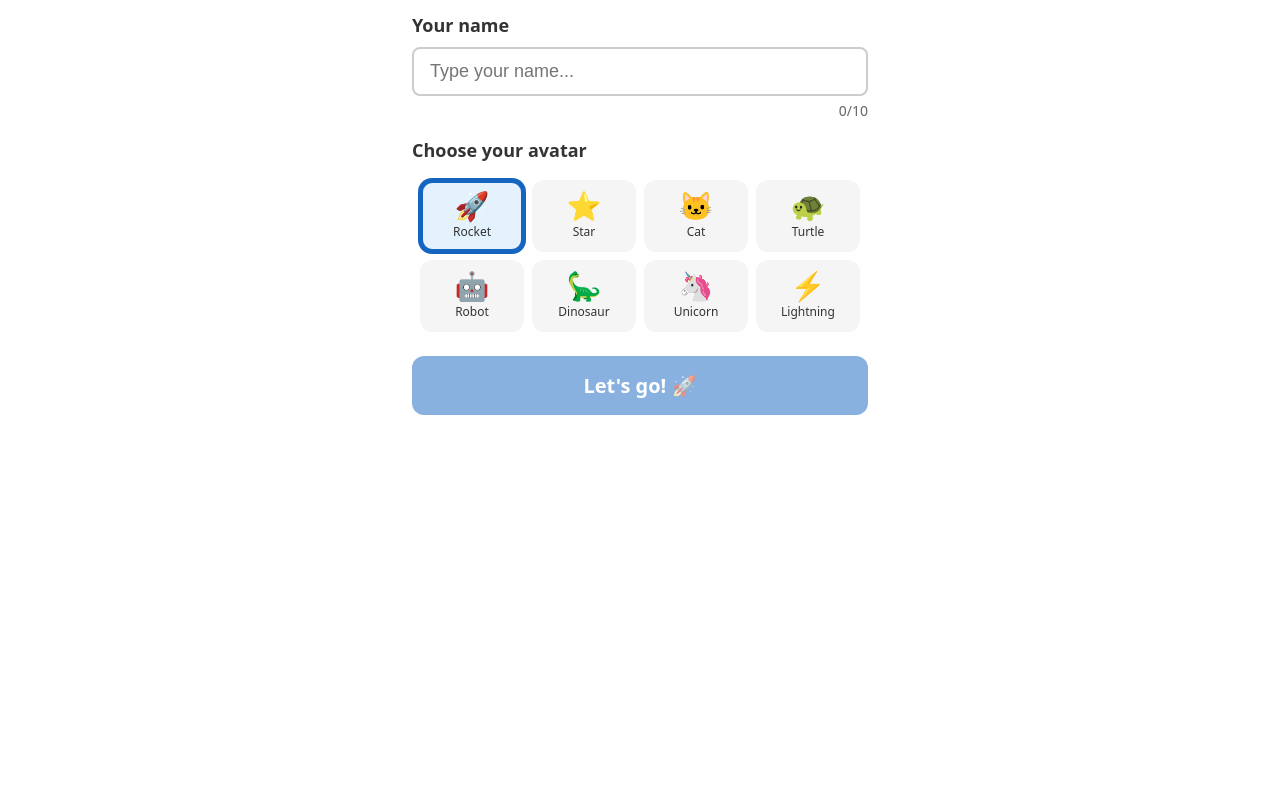
Scenario: NewPlayerForm › duplicate name overwrite confirmation (FR-012) › shows overwrite confirmation dialog when duplicate name is submitted
This screenshot has width=1280, height=800.
Type "Mia" into the field labelled "Your name" at (640, 72), box [412,47,868,96]
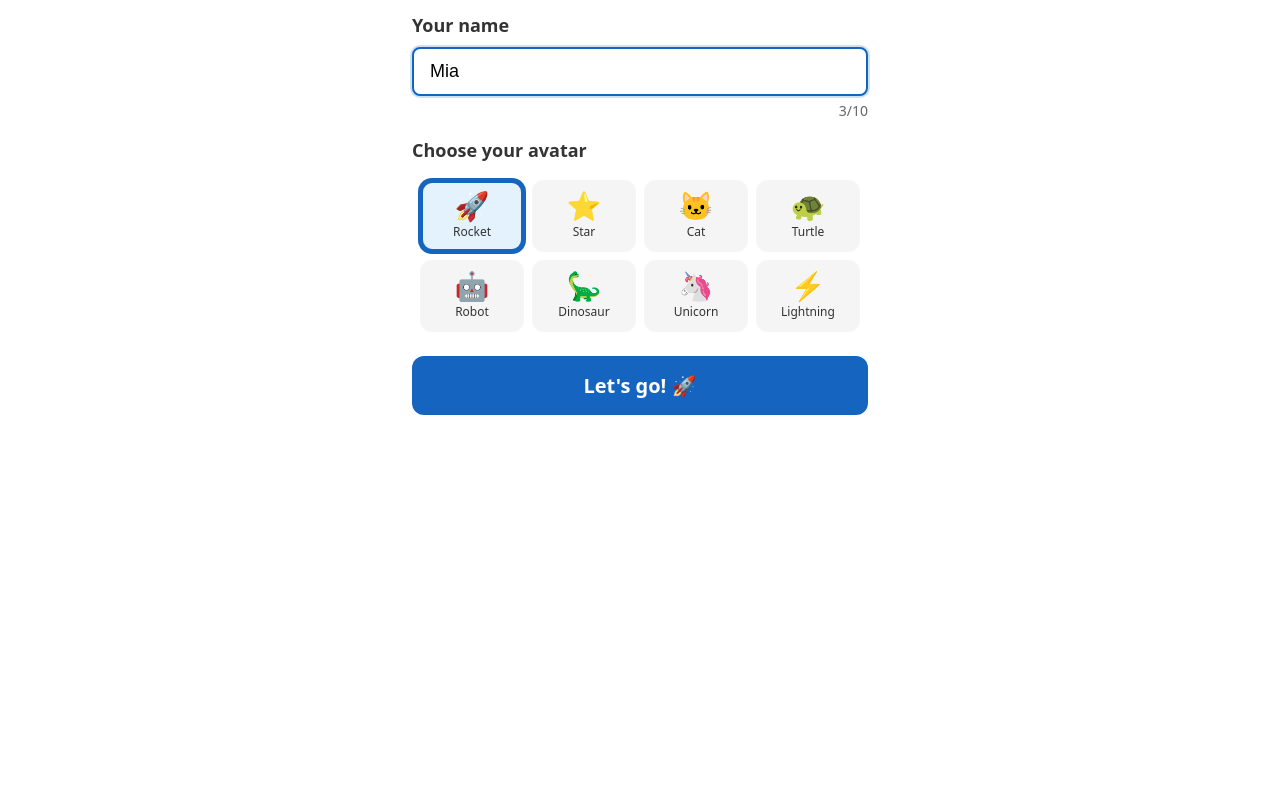
Click the button "Let's go! 🚀" at (640, 386), box [412,356,868,415]
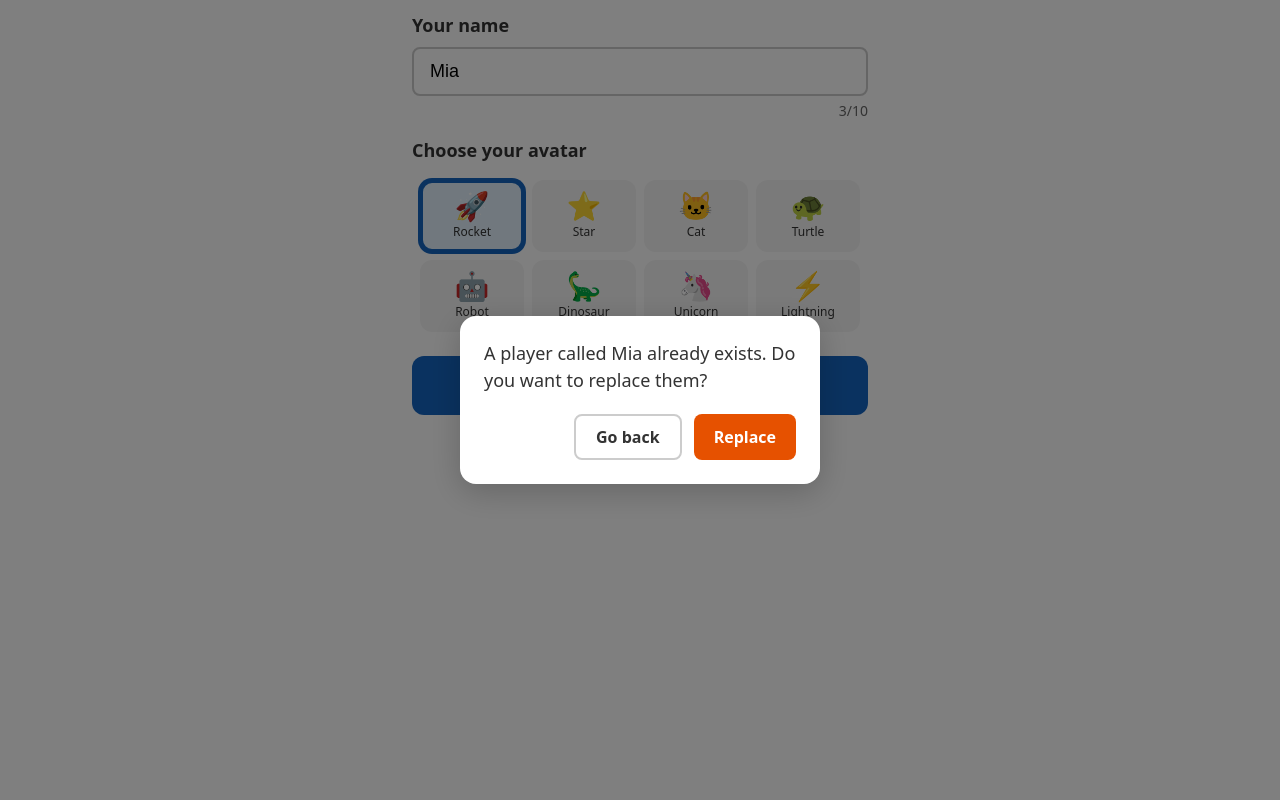
Expected: the dialog is shown, [460,316,820,484]
Expected: the text "A player called Mia already exists" is shown, [484,341,795,392]
Expected: the button "Replace" is shown, [694,414,796,460]
